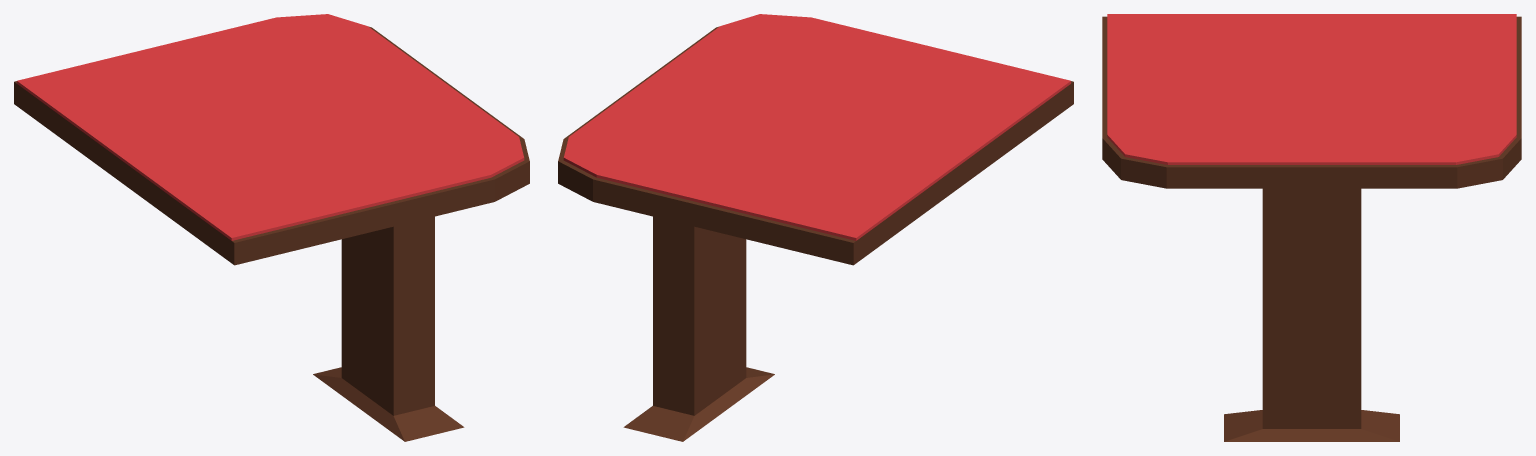
File: HalfTable.fbx
3 views of the same model, side by side, from view 1: azimuth 30°, elevation 25°; view 2: azimuth 150°, elevation 25°; view 3: azimuth 270°, elevation 25° (orthographic). The views are drawn at different scales.
Visible parts, largest first — view 1: HalfTable; view 2: HalfTable; view 3: HalfTable.
Part boxes in pixels (left/top/right/bottom): HalfTable: left=14, top=14, right=529, bottom=441; HalfTable: left=558, top=14, right=1073, bottom=441; HalfTable: left=1102, top=14, right=1521, bottom=441.
Bounding box in the file's own units: 96.74 × 87.3 × 114.
